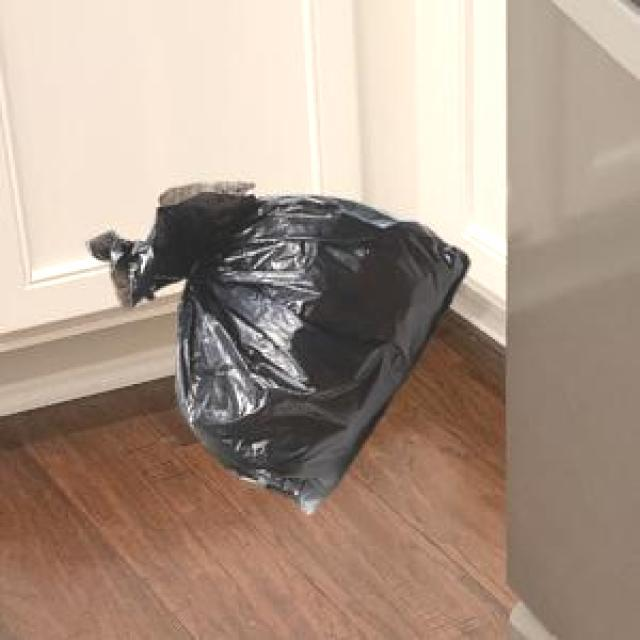Trashbag: (87, 169, 477, 520)
